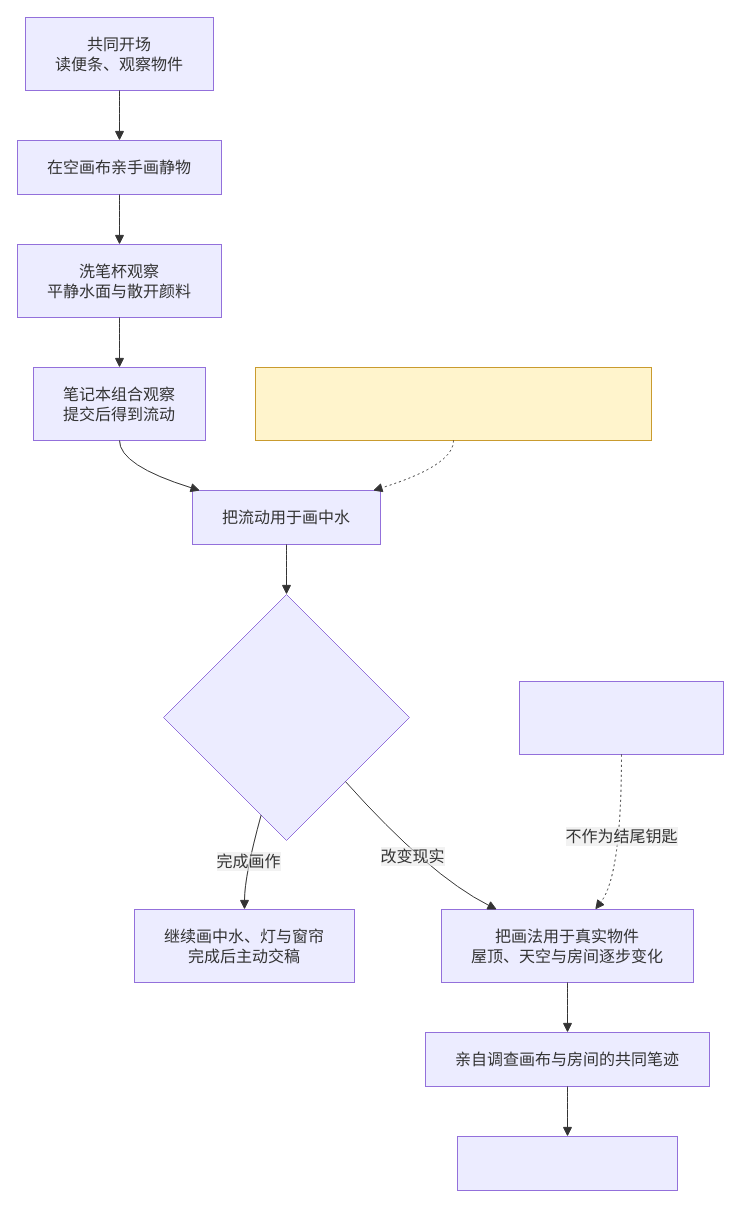
Image size: 741x1208. Some labels were removed from this diagram. Each missing label, with the centre of its shape:
"决定是否擦去整间画室" belongs at pixel 567 1163.
"可选实验 窗框反光、水面发光" belongs at pixel 621 717.
"当前可玩重点：空白画布、亲手落笔、洗笔开场 后续路线节点尚未全部在场景中验证" belongs at pixel 453 403.
"玩家用行动表达选择" belongs at pixel 286 717.
